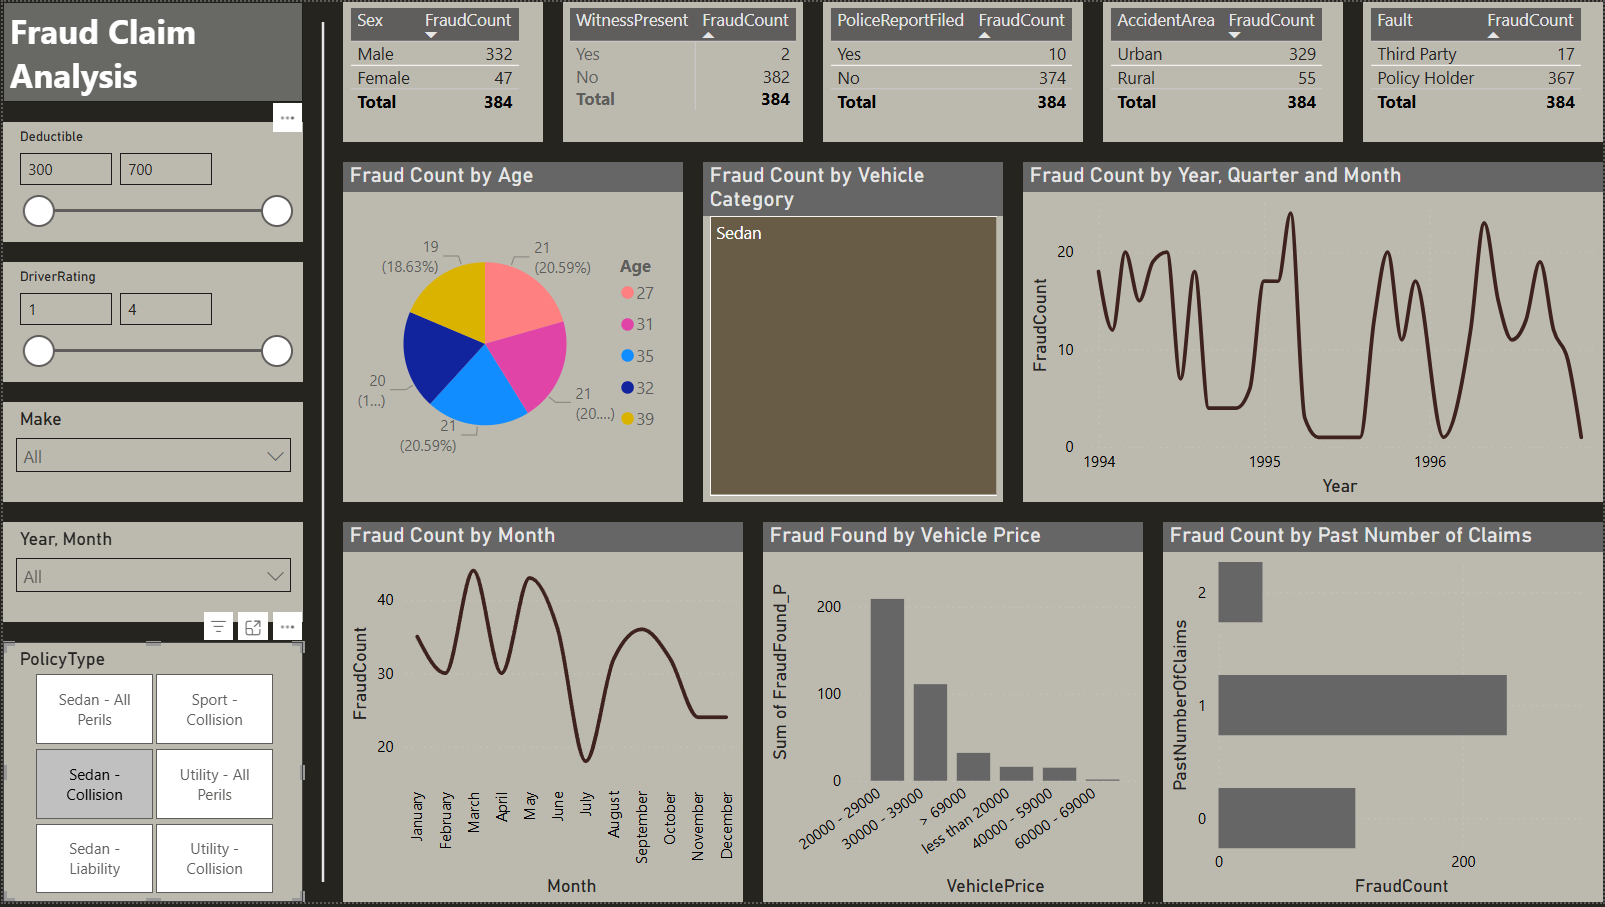

What the dashboard file says about the page in this screenshot:
{"tool":"powerbi","page":{"name":"Page 1","canvas":[1280,720],"ordinal":0},"visuals":[{"type":"lineChart","title":"Fraud Count by Year, Quarter and Month","fields":{"Y":["DAX.FraudCount"],"Category":["Calender.Date.Variation.Date Hierarchy.Year","Calender.Date.Variation.Date Hierarchy.Quarter","Calender.Date.Variation.Date Hierarchy.Month","Calender.Date.Variation.Date Hierarchy.Day"]},"box":[816,128,464,272],"z":0},{"type":"clusteredColumnChart","title":"Fraud Found by Vehicle Price","fields":{"Y":["Sum(FACT_ClaimFraud.FraudFound_P)"],"Category":["DIM_Vehicle.VehiclePrice"]},"box":[608,416,304,304],"z":1000},{"type":"pieChart","title":"Fraud Count by Age","fields":{"Category":["DIM_PolicyHolder.Age"],"Y":["DAX.FraudCount"]},"box":[272,128,272,272],"z":2000},{"type":"barChart","title":"Fraud Count by Past Number of Claims","fields":{"Category":["FACT_ClaimFraud.PastNumberOfClaims"],"Y":["DAX.FraudCount"]},"box":[928,416,352,304],"z":3000},{"type":"slicer","title":"DEDUCTIBLE","fields":{"Values":["FACT_ClaimFraud.Deductible"]},"box":[0,96,240,96],"z":4000},{"type":"slicer","fields":{"Values":["FACT_ClaimFraud.DriverRating"]},"box":[0,208,240,96],"z":5000},{"type":"slicer","fields":{"Values":["DIM_Vehicle.Make"]},"box":[0,320,240,80],"z":6000},{"type":"slicer","fields":{"Values":["DIM_Vehicle.PolicyType"]},"box":[0,512,240,208],"z":7000},{"type":"tableEx","fields":{"Values":["DIM_Incident.Fault","DAX.FraudCount"]},"box":[1088,0,192,112],"z":8000},{"type":"lineChart","title":"Fraud Count by Month","fields":{"Y":["DAX.FraudCount"],"Category":["Calender.Date.Variation.Date Hierarchy.Month"]},"box":[272,416,320,304],"z":9000},{"type":"slicer","fields":{"Values":["Calender.Date.Variation.Date Hierarchy.Year","Calender.Date.Variation.Date Hierarchy.Month"]},"box":[0,416,240,80],"z":10000},{"type":"pivotTable","fields":{"Rows":["DIM_Incident.WitnessPresent"],"Values":["DAX.FraudCount"]},"box":[448,0,192,112],"z":11000},{"type":"tableEx","fields":{"Values":["DIM_Incident.PoliceReportFiled","DAX.FraudCount"]},"box":[656,0,208,112],"z":12000},{"type":"tableEx","fields":{"Values":["DIM_Incident.AccidentArea","DAX.FraudCount"]},"box":[880,0,192,112],"z":13000},{"type":"tableEx","fields":{"Values":["DIM_PolicyHolder.Sex","DAX.FraudCount"]},"box":[272,0,160,112],"z":14000},{"type":"treemap","title":"Fraud Count by Vehicle Category","fields":{"Group":["DIM_Vehicle.VehicleCategory"],"Values":["DAX.FraudCount"]},"box":[560,128,240,272],"z":15000},{"type":"shape","box":[240,16,32,688],"z":16000},{"type":"textbox","box":[0,0,240,80],"z":17000}]}

Visuals, with their boxes in screenshot pixels (x1, y1, x2, y2), scaled from the page's 1280x720 canvas onto the 1605x907 screenshot:
"Fraud Count by Year, Quarter and Month" lineChart: x1=1023 y1=161 x2=1604 y2=504
"Fraud Found by Vehicle Price" clusteredColumnChart: x1=762 y1=524 x2=1144 y2=906
"Fraud Count by Age" pieChart: x1=341 y1=161 x2=682 y2=504
"Fraud Count by Past Number of Claims" barChart: x1=1164 y1=524 x2=1604 y2=906
"DEDUCTIBLE" slicer: x1=0 y1=121 x2=301 y2=242
slicer - FACT_ClaimFraud.DriverRating: x1=0 y1=262 x2=301 y2=383
slicer - DIM_Vehicle.Make: x1=0 y1=403 x2=301 y2=504
slicer - DIM_Vehicle.PolicyType: x1=0 y1=645 x2=301 y2=906
tableEx - DIM_Incident.Fault x DAX.FraudCount: x1=1364 y1=0 x2=1604 y2=141
"Fraud Count by Month" lineChart: x1=341 y1=524 x2=742 y2=906
slicer - Calender.Date.Variation.Date Hierarchy.Year x Calender.Date.Variation.Date Hierarchy.Month: x1=0 y1=524 x2=301 y2=625
pivotTable - DIM_Incident.WitnessPresent x DAX.FraudCount: x1=562 y1=0 x2=802 y2=141
tableEx - DIM_Incident.PoliceReportFiled x DAX.FraudCount: x1=823 y1=0 x2=1083 y2=141
tableEx - DIM_Incident.AccidentArea x DAX.FraudCount: x1=1103 y1=0 x2=1344 y2=141
tableEx - DIM_PolicyHolder.Sex x DAX.FraudCount: x1=341 y1=0 x2=542 y2=141
"Fraud Count by Vehicle Category" treemap: x1=702 y1=161 x2=1003 y2=504
shape: x1=301 y1=20 x2=341 y2=887
textbox: x1=0 y1=0 x2=301 y2=101
